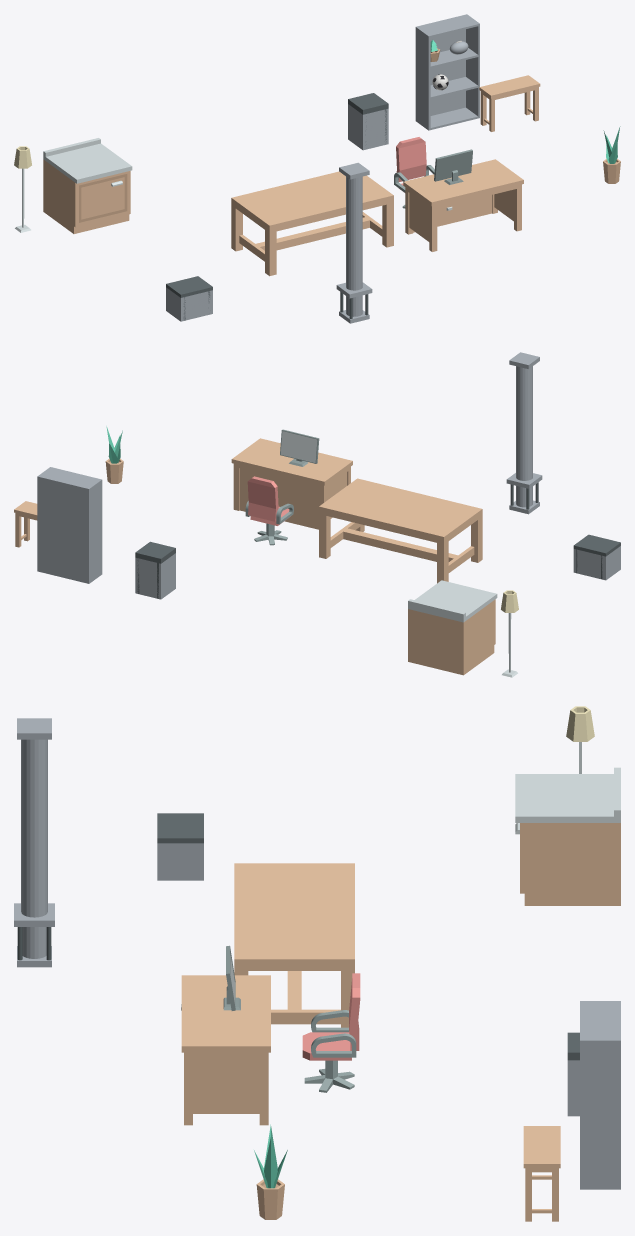
The picture shows the model from 3 angles, top to bottom: view 1: azimuth 30°, elevation 25°; view 2: azimuth 150°, elevation 25°; view 3: azimuth 270°, elevation 25°; orthographic projection. The views are drawn at different scales.
Visible parts, largest first — view 1: table_green__table(Clone), desk_blue__desk(Clone), cabinet_blue__kitchenCabinet(Clone), column_cyan__column_cyan shaft, cabinet_blue__door, sidetable_brown__sideTable(Clone), shelf_orange__shelf_orange back, shelf_orange__shelf_orange side_l, bin_gray__bin_gray shell, deskchair_black__chair, crate_red__crate_red shell, shelf_orange__shelf_orange side_r (+8 smaller); view 2: table_green__table(Clone), cabinet_blue__kitchenCabinet(Clone), desk_blue__desk(Clone), shelf_orange__shelf_orange back, column_cyan__column_cyan shaft, deskchair_black__chair, shelf_orange__shelf_orange side_l, bin_gray__bin_gray shell, crate_red__crate_red shell, monitor_gray__computerScreen(Clone), sidetable_brown__sideTable(Clone), crate_red__crate_red lid (+3 smaller); view 3: table_green__table(Clone), cabinet_blue__kitchenCabinet(Clone), desk_blue__desk(Clone), shelf_orange__shelf_orange side_r, column_cyan__column_cyan shaft, deskchair_black__chair, sidetable_brown__sideTable(Clone), crate_red__crate_red shell, shelf_orange__shelf_orange board3, crate_red__crate_red lid, lamp_white__lampRoundFloor(Clone), plant_pink__pottedPlant(Clone) (+4 smaller).
Boxes of the visible parts, x1,y1,x2,y2 form: table_green__table(Clone): (231,171,393,276); desk_blue__desk(Clone): (403,159,523,251); cabinet_blue__kitchenCabinet(Clone): (43,138,132,233); column_cyan__column_cyan shaft: (346,176,362,316); cabinet_blue__door: (79,174,127,222); sidetable_brown__sideTable(Clone): (479,75,540,131); shelf_orange__shelf_orange back: (418,15,465,115); shelf_orange__shelf_orange side_l: (415,26,430,130); bin_gray__bin_gray shell: (348,104,388,150); deskchair_black__chair: (394,137,434,192); crate_red__crate_red shell: (166,287,212,321); shelf_orange__shelf_orange side_r: (465,14,479,118); table_green__table(Clone): (319,478,482,583); cabinet_blue__kitchenCabinet(Clone): (408,580,497,675); desk_blue__desk(Clone): (231,438,352,529); shelf_orange__shelf_orange back: (39,476,87,583); column_cyan__column_cyan shaft: (516,366,532,507); deskchair_black__chair: (245,476,293,525); shelf_orange__shelf_orange side_l: (87,479,102,583); bin_gray__bin_gray shell: (135,553,175,599); crate_red__crate_red shell: (573,546,620,580); monitor_gray__computerScreen(Clone): (280,429,319,466); sidetable_brown__sideTable(Clone): (14,501,37,547); crate_red__crate_red lid: (573,534,620,556); table_green__table(Clone): (234,863,354,1027); cabinet_blue__kitchenCabinet(Clone): (515,767,620,905); desk_blue__desk(Clone): (181,975,270,1125); shelf_orange__shelf_orange side_r: (580,1039,620,1189); column_cyan__column_cyan shaft: (21,739,47,958); deskchair_black__chair: (302,973,360,1060); sidetable_brown__sideTable(Clone): (523,1126,560,1221); crate_red__crate_red shell: (157,843,203,880); shelf_orange__shelf_orange board3: (580,1002,618,1039); crate_red__crate_red lid: (157,813,203,843); lamp_white__lampRoundFloor(Clone): (566,706,594,773); plant_pink__pottedPlant(Clone): (256,1179,284,1219).
Size of the model in its own units: 7.86 by 2.2 by 5.17.
